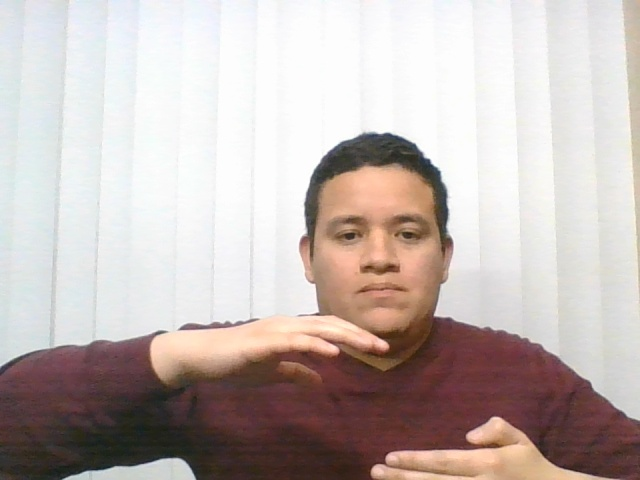To Study: (117, 283, 582, 480)
